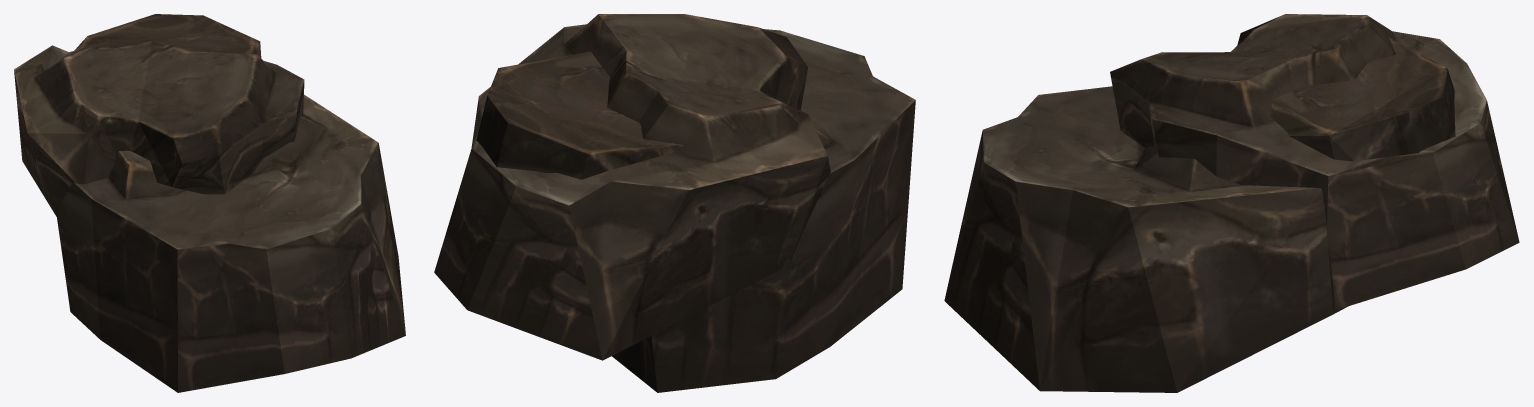
File: Z_yanshi004.fbx
3 renders of one model, left to right at view 1: azimuth 30°, elevation 25°; view 2: azimuth 150°, elevation 25°; view 3: azimuth 270°, elevation 25°, orthographic. The views are drawn at different scales.
Visible parts, largest first — view 1: Z_yanshi004; view 2: Z_yanshi004; view 3: Z_yanshi004.
Boxes of the visible parts, x1,y1,x2,y2 form: Z_yanshi004: (14, 14, 405, 392); Z_yanshi004: (434, 14, 915, 392); Z_yanshi004: (944, 14, 1519, 392).
Size of the model in its own units: 447 by 319 by 596.
